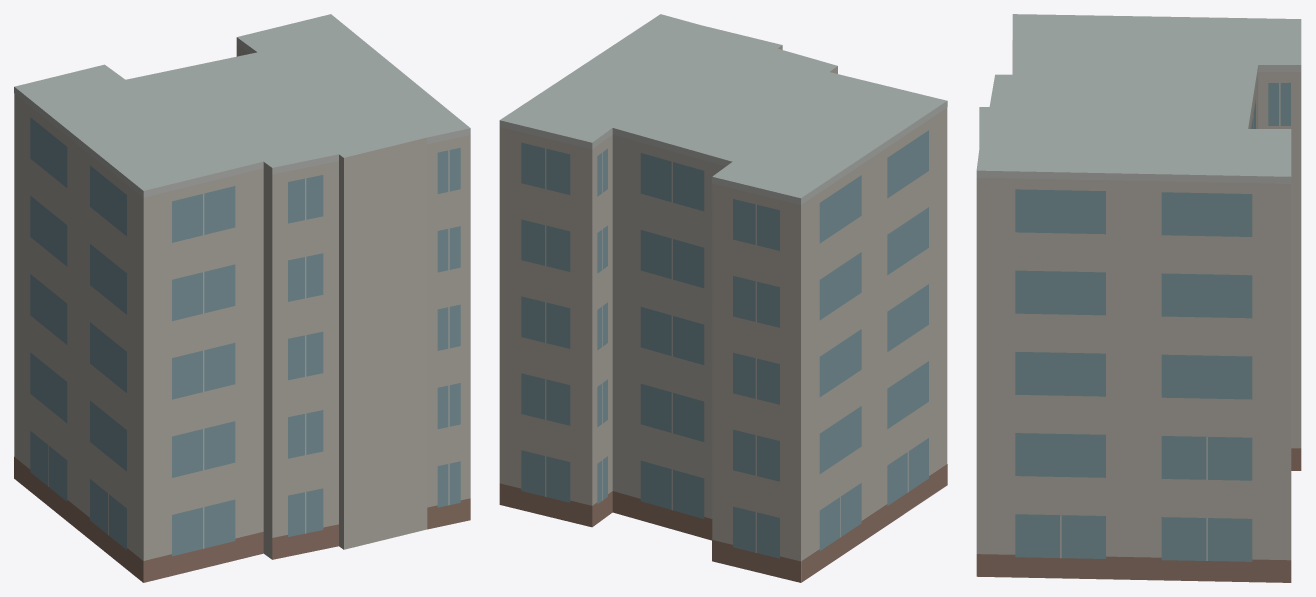
Rendered from survey-upis-32669660.glb.
The picture shows the model from 3 angles, left to right: view 1: azimuth 30°, elevation 25°; view 2: azimuth 150°, elevation 25°; view 3: azimuth 270°, elevation 25°; orthographic projection. The views are drawn at different scales.
Visible parts, largest first — view 1: survey-upis-32669660.tmp; view 2: survey-upis-32669660.tmp; view 3: survey-upis-32669660.tmp.
Boxes of the visible parts, bbox=[...] form: survey-upis-32669660.tmp: bbox=[14, 14, 470, 582]; survey-upis-32669660.tmp: bbox=[499, 14, 947, 582]; survey-upis-32669660.tmp: bbox=[976, 14, 1301, 582].
Size of the model in its own units: 12.22 by 14.2 by 10.31.
